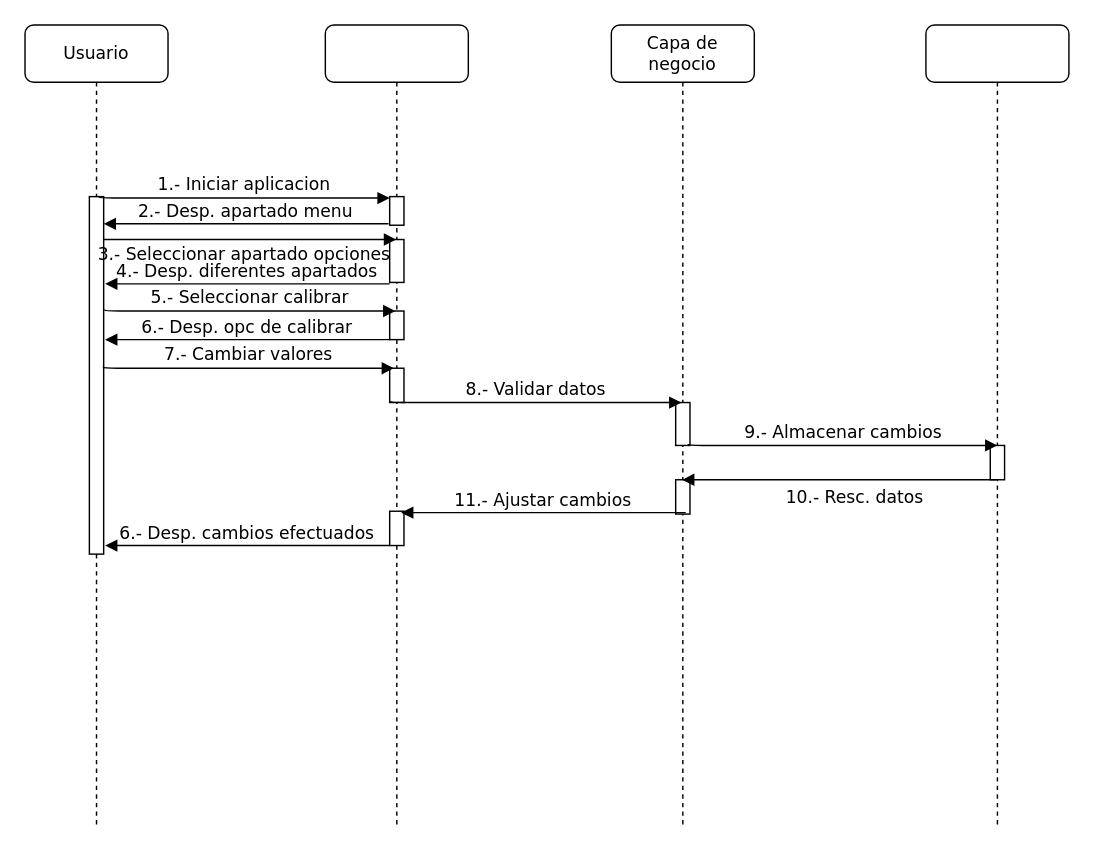
This 1094x851 diagram has some shape labels left out. Here are the shapes that lost their labels. From the top down, the centre of each, then its label:
At point 396,425: "Interfaz".
At point 996,425: "Base de datos".
